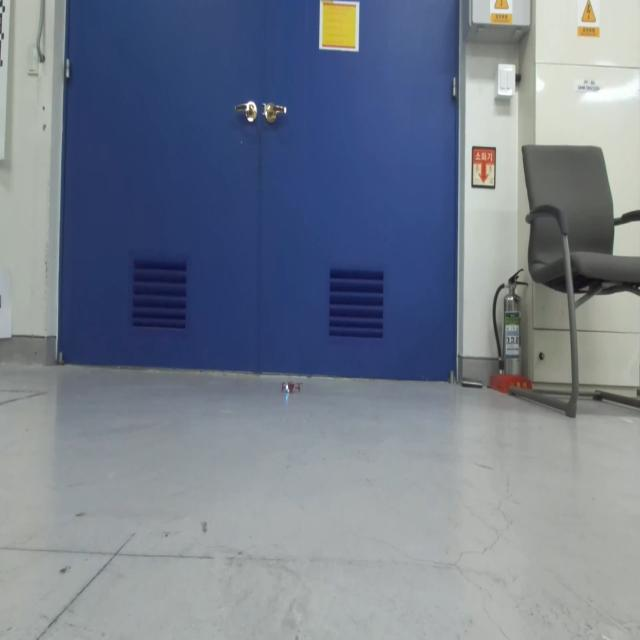crazyflie: (278, 374, 304, 402)
